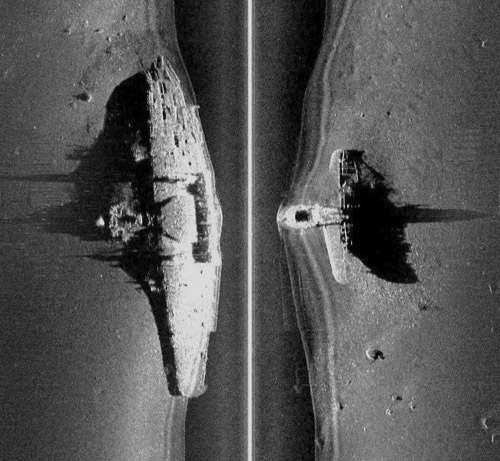ship: (100, 59, 224, 400), (286, 152, 369, 283)
